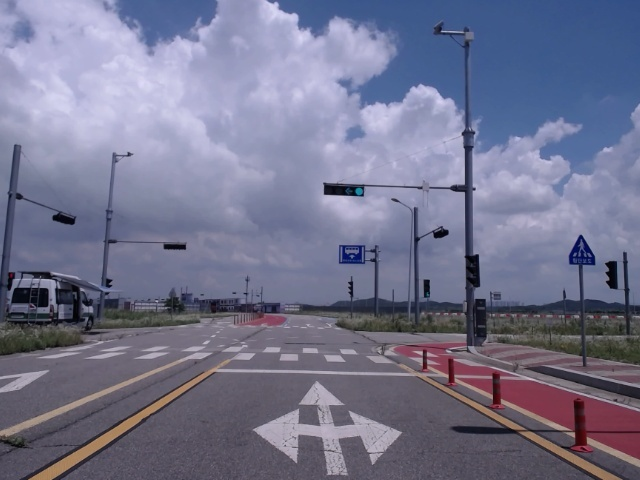all_green_4: (324, 183, 363, 196)
